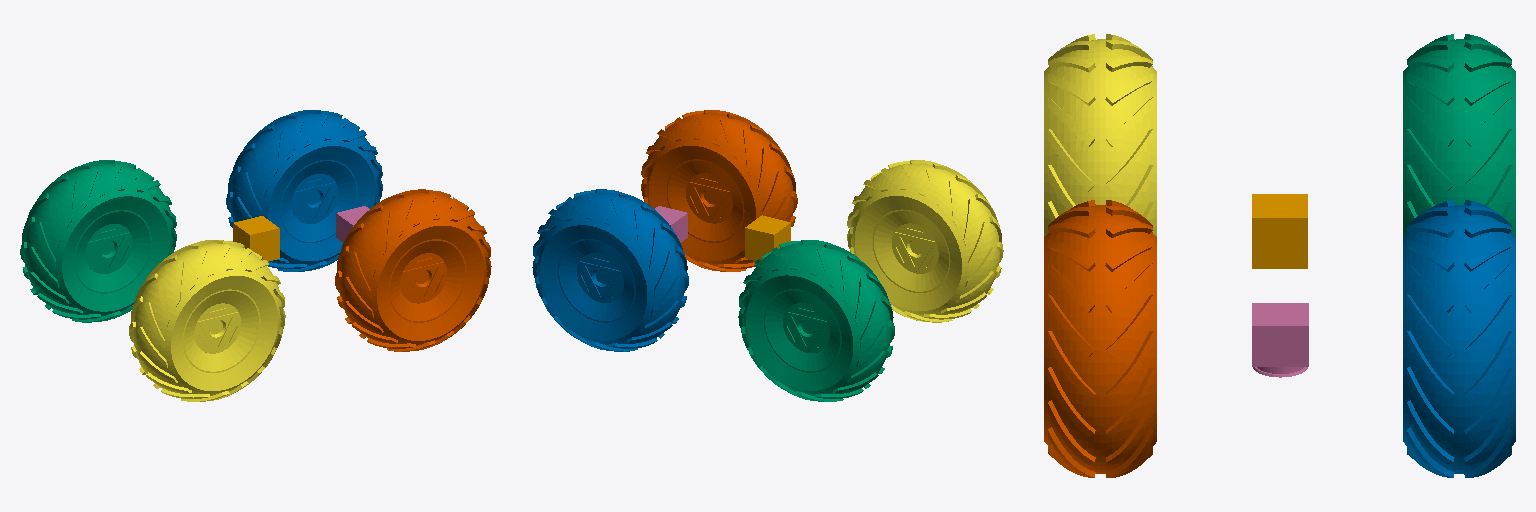
robot.urdf — iBot:
<?xml version="1.0" ?>
<!-- =================================================================================== -->
<!-- |    This document was autogenerated by xacro from [local-path]/ros2/airbus_ws/src/Autonomous-Inspection-POC/gazebo/models/iBot/iBot.urdf.xacro | -->
<!-- |    EDITING THIS FILE BY HAND IS NOT RECOMMENDED                                 | -->
<!-- =================================================================================== -->
<robot name="iBot">
  <!--**************** DIFFERENTIAL DRIVE CONTROLLER *********************** -->
  <gazebo>
    <plugin filename="libgazebo_ros_diff_drive.so" name="differential_drive_controller">
      <ros>
        <namespace>iBot</namespace>
        <remapping>/cmd_vel:=cmd_vel</remapping>
        <remapping>/odom:=odom</remapping>
      </ros>
      <update_rate>100.0</update_rate>
      <num_wheel_pairs>2</num_wheel_pairs>
      <odometry_frame>odom</odometry_frame>
      <left_joint>front_left_wheel_joint</left_joint>
      <left_joint>back_left_wheel_joint</left_joint>
      <wheel_separation>0.32</wheel_separation>
      <wheel_diameter>0.25</wheel_diameter>
      <right_joint>front_right_wheel_joint</right_joint>
      <right_joint>back_right_wheel_joint</right_joint>
      <wheel_separation>0.32</wheel_separation>
      <wheel_diameter>0.25</wheel_diameter>
      <max_wheel_torque>20</max_wheel_torque>
      <max_wheel_acceleration>1.0</max_wheel_acceleration>
      <publish_odom>true</publish_odom>
      <!-- robot_localization package publishes this transform -->
      <publish_odom_tf>false</publish_odom_tf>
      <!-- The robot_state_publisher package is often used to publish this transform -->
      <publish_wheel_tf>true</publish_wheel_tf>
      <odometry_frame>odom</odometry_frame>
      <robot_base_frame>robot_footprint</robot_base_frame>
      <!-- <odometry_source>world</odometry_source> -->
    </plugin>
  </gazebo>
  <!-- ************************ CAMERA SENSOR ****************************** -->
  <gazebo reference="camera">
    <sensor name="camera_sensor" type="camera">
      <update_rate>30</update_rate>
      <always_on>1</always_on>
      <camera name="camera">
        <!-- <horizontal_fov>1.3962634</horizontal_fov> -->
        <horizontal_fov>1.2</horizontal_fov>
        <image>
          <width>800</width>
          <height>800</height>
          <format>R8G8B8</format>
        </image>
        <clip>
          <near>0.02</near>
          <far>300</far>
        </clip>
        <distortion>
          <k1>0.0</k1>
          <k2>0.0</k2>
          <k3>0.0</k3>
          <p1>0.0</p1>
          <p2>0.0</p2>
          <center>0.5 0.5</center>
        </distortion>
      </camera>
      <plugin filename="libgazebo_ros_camera.so" name="camera_controller">
        <ros>
          <namespace>/iBot</namespace>
          <remapping>camera/image_raw:=/iBot/camera/image</remapping>
          <remapping>camera/camera_info:=/iBot/camera/image/camera_info</remapping>
        </ros>
        <camera_name>camera</camera_name>
        <frame_name>camera_frame</frame_name>
        <hack_baseline>0.07</hack_baseline>
      </plugin>
    </sensor>
  </gazebo>
  <!-- ************************* IMU SENSOR ******************************** -->
  <gazebo reference="imu">
    <sensor name="imu_sensor" type="imu">
      <plugin filename="libgazebo_ros_imu_sensor.so" name="imu">
        <ros>
          <namespace>/iBot</namespace>
          <remapping>~/out:=imu</remapping>
        </ros>
        <initial_orientation_as_reference>false</initial_orientation_as_reference>
      </plugin>
      <always_on>true</always_on>
      <update_rate>100</update_rate>
      <visualize>true</visualize>
      <imu>
        <angular_velocity>
          <x>
            <noise type="gaussian">
              <mean>0.0</mean>
              <stddev>2e-4</stddev>
              <bias_mean>0.0000075</bias_mean>
              <bias_stddev>0.0000008</bias_stddev>
            </noise>
          </x>
          <y>
            <noise type="gaussian">
              <mean>0.0</mean>
              <stddev>2e-4</stddev>
              <bias_mean>0.0000075</bias_mean>
              <bias_stddev>0.0000008</bias_stddev>
            </noise>
          </y>
          <z>
            <noise type="gaussian">
              <mean>0.0</mean>
              <stddev>2e-4</stddev>
              <bias_mean>0.0000075</bias_mean>
              <bias_stddev>0.0000008</bias_stddev>
            </noise>
          </z>
        </angular_velocity>
        <linear_acceleration>
          <x>
            <noise type="gaussian">
              <mean>0.0</mean>
              <stddev>1.7e-2</stddev>
              <bias_mean>0.1</bias_mean>
              <bias_stddev>0.001</bias_stddev>
            </noise>
          </x>
          <y>
            <noise type="gaussian">
              <mean>0.0</mean>
              <stddev>1.7e-2</stddev>
              <bias_mean>0.1</bias_mean>
              <bias_stddev>0.001</bias_stddev>
            </noise>
          </y>
          <z>
            <noise type="gaussian">
              <mean>0.0</mean>
              <stddev>1.7e-2</stddev>
              <bias_mean>0.1</bias_mean>
              <bias_stddev>0.001</bias_stddev>
            </noise>
          </z>
        </linear_acceleration>
      </imu>
    </sensor>
  </gazebo>
  <!-- ********************** JOINT STATE PUBLISHER ************************ -->
  <gazebo>
    <plugin filename="libgazebo_ros_joint_state_publisher.so" name="joint_state_publisher">
      <ros>
        <namespace>iBot</namespace>
        <remapping>~/out:=joint_states</remapping>
      </ros>
      <update_rate>30</update_rate>
      <joint_name>front_left_wheel_joint</joint_name>
      <joint_name>front_right_wheel_joint</joint_name>
      <joint_name>back_left_wheel_joint</joint_name>
      <joint_name>back_right_wheel_joint</joint_name>
    </plugin>
  </gazebo>
  <!-- ********** GAZEBO-ROS-FORCE PLUGIN FOR SIMULATING EDF THRUST ********** -->
  <gazebo>
    <plugin filename="libgazebo_ros_force.so" name="gazebo_ros_force">
      <ros>
        <namespace>iBot</namespace>
        <remapping>/gazebo_ros_force:=wrench</remapping>
      </ros>
      <update_rate>100</update_rate>
      <always_on>true</always_on>
      <link_name>robot_footprint</link_name>
      <force_frame>link</force_frame>
    </plugin>
  </gazebo>
  <gazebo>
    <plugin filename="libgazebo_ros_p3d.so" name="p3d_base_controller">
      <ros>
        <namespace>/iBot</namespace>
        <argument>odom:=ground_truth</argument>
      </ros>
      <always_on>true</always_on>
      <update_rate>50.0</update_rate>
      <body_name>robot_footprint</body_name>
      <gaussian_noise>0.01</gaussian_noise>
      <frame_name>world</frame_name>
      <xyz_offset>0 0 0</xyz_offset>
      <rpy_offset>0 0 0</rpy_offset>
    </plugin>
  </gazebo>
  <!-- ******************** BASE LINK ************************************** -->
  <link name="chassis">
    <collision name="collision">
      <origin rpy=" 0 0 0" xyz="0 0 0"/>
      <geometry>
        <box size="0.4 0.2 0.1"/>
      </geometry>
    </collision>
    <visual name="chassis_visual">
      <origin rpy=" 1.5707963267948966 0 0" xyz="0 -0 0"/>
      <geometry>
        <mesh filename="package://iBot/meshes/chassis3.obj"/>
      </geometry>
      <transparency>0</transparency>
      <cast_shadows>1</cast_shadows>
    </visual>
    <inertial>
      <origin rpy="1.5707963267948966 0 1.5707963267948966" xyz="0 0 0"/>
      <mass value="15"/>
      <inertia ixx="0.21250000000000005" ixy="0.0" ixz="0.0" iyy="0.25000000000000006" iyz="0.0" izz="0.06250000000000001"/>
    </inertial>
  </link>
  <!-- dummy link to take care of the below error -
  "The root link chassis has an inertia specified in the URDF, but KDL does not
  support a root link with an inertia.  As a workaround, you can add an extra
  dummy link to your URDF."
  <link name="dummy_link"-->
  <!-- ****************** ROBOT BASE FOOTPRINT ***************************  -->
  <!-- Define the center of the main robot chassis projected on the ground -->
  <link name="robot_footprint"/>
  <!-- The base footprint of the robot is located underneath the chassis -->
  <joint name="robot_footprint_joint" type="fixed">
    <!-- NOTE- joint's orign is defined w.r.t. parent's reference frame-->
    <origin rpy="0 0 0" xyz="0 0 0.15"/>
    <child link="chassis"/>
    <parent link="robot_footprint"/>
  </joint>
  <link name="back_left_wheel_link">
    <visual>
      <origin rpy="1.5707963267948966 0 0" xyz="0 0 0"/>
      <geometry>
        <mesh filename="package://iBot/meshes/wheel3.obj"/>
      </geometry>
      <transparency>0</transparency>
      <cast_shadows>1</cast_shadows>
    </visual>
    <collision>
      <origin rpy="1.5707963267948966 0 0" xyz="0 0 0"/>
      <geometry>
        <cylinder length="0.1" radius="0.125"/>
      </geometry>
      <surface>
        <friction>
          <ode>
            <mu>500</mu>
            <mu2>500</mu2>
          </ode>
        </friction>
      </surface>
    </collision>
    <inertial>
      <origin rpy="1.5707963267948966 0 0" xyz="0 0 0"/>
      <mass value="5"/>
      <inertia ixx="0.02369791666666667" ixy="0" ixz="0" iyy="0.02369791666666667" iyz="0" izz="0.0390625"/>
    </inertial>
  </link>
  <joint name="back_left_wheel_joint" type="revolute">
    <parent link="chassis"/>
    <child link="back_left_wheel_link"/>
    <origin rpy="0 0 0" xyz="-0.175 0.16000000000000003 -0.025"/>
    <limit effort="1000" lower="-1e+16" upper="1e+16" velocity="1000"/>
    <axis xyz="0 1 0"/>
    <dynamics damping="1.0" friction="1.0" spring_reference="0" spring_stiffness="0"/>
  </joint>
  <link name="back_right_wheel_link">
    <visual>
      <origin rpy="1.5707963267948966 0 0" xyz="0 0 0"/>
      <geometry>
        <mesh filename="package://iBot/meshes/wheel3.obj"/>
      </geometry>
      <transparency>0</transparency>
      <cast_shadows>1</cast_shadows>
    </visual>
    <collision>
      <origin rpy="1.5707963267948966 0 0" xyz="0 0 0"/>
      <geometry>
        <cylinder length="0.1" radius="0.125"/>
      </geometry>
      <surface>
        <friction>
          <ode>
            <mu>500</mu>
            <mu2>500</mu2>
          </ode>
        </friction>
      </surface>
    </collision>
    <inertial>
      <origin rpy="1.5707963267948966 0 0" xyz="0 0 0"/>
      <mass value="5"/>
      <inertia ixx="0.02369791666666667" ixy="0" ixz="0" iyy="0.02369791666666667" iyz="0" izz="0.0390625"/>
    </inertial>
  </link>
  <joint name="back_right_wheel_joint" type="revolute">
    <parent link="chassis"/>
    <child link="back_right_wheel_link"/>
    <origin rpy="0 0 0" xyz="-0.175 -0.16000000000000003 -0.025"/>
    <limit effort="1000" lower="-1e+16" upper="1e+16" velocity="1000"/>
    <axis xyz="0 1 0"/>
    <dynamics damping="1.0" friction="1.0" spring_reference="0" spring_stiffness="0"/>
  </joint>
  <link name="front_left_wheel_link">
    <visual>
      <origin rpy="1.5707963267948966 0 0" xyz="0 0 0"/>
      <geometry>
        <mesh filename="package://iBot/meshes/wheel3.obj"/>
      </geometry>
      <transparency>0</transparency>
      <cast_shadows>1</cast_shadows>
    </visual>
    <collision>
      <origin rpy="1.5707963267948966 0 0" xyz="0 0 0"/>
      <geometry>
        <cylinder length="0.1" radius="0.125"/>
      </geometry>
      <surface>
        <friction>
          <ode>
            <mu>500</mu>
            <mu2>500</mu2>
          </ode>
        </friction>
      </surface>
    </collision>
    <inertial>
      <origin rpy="1.5707963267948966 0 0" xyz="0 0 0"/>
      <mass value="5"/>
      <inertia ixx="0.02369791666666667" ixy="0" ixz="0" iyy="0.02369791666666667" iyz="0" izz="0.0390625"/>
    </inertial>
  </link>
  <joint name="front_left_wheel_joint" type="revolute">
    <parent link="chassis"/>
    <child link="front_left_wheel_link"/>
    <origin rpy="0 0 0" xyz="0.175 0.16000000000000003 -0.025"/>
    <limit effort="1000" lower="-1e+16" upper="1e+16" velocity="1000"/>
    <axis xyz="0 1 0"/>
    <dynamics damping="1.0" friction="1.0" spring_reference="0" spring_stiffness="0"/>
  </joint>
  <link name="front_right_wheel_link">
    <visual>
      <origin rpy="1.5707963267948966 0 0" xyz="0 0 0"/>
      <geometry>
        <mesh filename="package://iBot/meshes/wheel3.obj"/>
      </geometry>
      <transparency>0</transparency>
      <cast_shadows>1</cast_shadows>
    </visual>
    <collision>
      <origin rpy="1.5707963267948966 0 0" xyz="0 0 0"/>
      <geometry>
        <cylinder length="0.1" radius="0.125"/>
      </geometry>
      <surface>
        <friction>
          <ode>
            <mu>500</mu>
            <mu2>500</mu2>
          </ode>
        </friction>
      </surface>
    </collision>
    <inertial>
      <origin rpy="1.5707963267948966 0 0" xyz="0 0 0"/>
      <mass value="5"/>
      <inertia ixx="0.02369791666666667" ixy="0" ixz="0" iyy="0.02369791666666667" iyz="0" izz="0.0390625"/>
    </inertial>
  </link>
  <joint name="front_right_wheel_joint" type="revolute">
    <parent link="chassis"/>
    <child link="front_right_wheel_link"/>
    <origin rpy="0 0 0" xyz="0.175 -0.16000000000000003 -0.025"/>
    <limit effort="1000" lower="-1e+16" upper="1e+16" velocity="1000"/>
    <axis xyz="0 1 0"/>
    <dynamics damping="1.0" friction="1.0" spring_reference="0" spring_stiffness="0"/>
  </joint>
  <!-- ************************** CAMERA *************************** -->
  <link name="camera">
    <inertial>
      <origin rpy="1.5707963267948966 0 1.5707963267948966" xyz="0 0 0"/>
      <mass value="0.1"/>
      <inertia ixx="4.166666666666667e-05" ixy="0.0" ixz="0.0" iyy="4.166666666666667e-05" iyz="0.0" izz="4.166666666666667e-05"/>
    </inertial>
    <visual name="camera_visual">
      <origin rpy="0 0 1.5707963267948966" xyz="0 0 0"/>
      <geometry>
        <mesh filename="package://iBot/meshes/camera.obj"/>
      </geometry>
      <transparency>0</transparency>
      <cast_shadows>1</cast_shadows>
    </visual>
    <collision name="camera_colision">
      <origin rpy="0 0 0" xyz="0 0 0"/>
      <geometry>
        <box size="0.05 0.05 0.05"/>
      </geometry>
    </collision>
  </link>
  <joint name="camera_joint" type="fixed">
    <origin rpy="0 1.5707 0" xyz="0.17500000000000002 0 -0.025"/>
    <parent link="chassis"/>
    <child link="camera"/>
  </joint>
  <link name="camera_frame"/>
  <joint name="camera_frame_joint" type="fixed">
    <origin rpy="-1.5707963267948966 0 -1.5707963267948966" xyz="0.025 0 0"/>
    <parent link="camera"/>
    <child link="camera_frame"/>
  </joint>
  <!-- ************************** IMU *************************** -->
  <link name="imu">
    <inertial>
      <origin rpy="1.5707963267948966 0 1.5707963267948966" xyz="0 0 0"/>
      <mass value="0.1"/>
      <inertia ixx="4.166666666666667e-05" ixy="0.0" ixz="0.0" iyy="4.166666666666667e-05" iyz="0.0" izz="4.166666666666667e-05"/>
    </inertial>
    <visual name="imu_visual">
      <origin rpy="0 0 0" xyz="0 0 0"/>
      <geometry>
        <box size="0.05 0.05 0.05"/>
      </geometry>
    </visual>
    <collision name="imu_colision">
      <origin rpy="0 0 0" xyz="0 0 0"/>
      <geometry>
        <box size="0.05 0.05 0.05"/>
      </geometry>
    </collision>
  </link>
  <joint name="imu_joint" type="fixed">
    <origin rpy="0 0 0" xyz="0 0 0"/>
    <parent link="chassis"/>
    <child link="imu"/>
  </joint>
  <gazebo reference="imu">
    <material>Gazebo/Red</material>
  </gazebo>
</robot>

--- Facts derived from the render (not from the file) ---
Views: 3 orthographic renders of the robot side by side, from view 1: azimuth 30°, elevation 25°; view 2: azimuth 150°, elevation 25°; view 3: azimuth 270°, elevation 25°.
Robot: iBot — 9 links, 8 joints (4 revolute, 4 fixed); root link robot_footprint; default pose: all joints at 0.
Links seen in each view (by area): view 1: front_right_wheel_link, back_right_wheel_link, back_left_wheel_link, front_left_wheel_link, imu, camera; view 2: back_left_wheel_link, front_left_wheel_link, back_right_wheel_link, front_right_wheel_link, imu, camera; view 3: front_left_wheel_link, front_right_wheel_link, back_left_wheel_link, back_right_wheel_link, imu, camera.
Link boxes in pixels (x1=…): front_right_wheel_link: x1=335, y1=189, x2=491, y2=351; back_right_wheel_link: x1=129, y1=240, x2=285, y2=401; back_left_wheel_link: x1=20, y1=160, x2=176, y2=322; front_left_wheel_link: x1=226, y1=110, x2=382, y2=271; imu: x1=233, y1=216, x2=279, y2=261; camera: x1=336, y1=206, x2=369, y2=245; back_left_wheel_link: x1=738, y1=240, x2=894, y2=401; front_left_wheel_link: x1=532, y1=189, x2=688, y2=351; back_right_wheel_link: x1=847, y1=160, x2=1003, y2=322; front_right_wheel_link: x1=641, y1=110, x2=797, y2=271; imu: x1=745, y1=215, x2=790, y2=260; camera: x1=655, y1=206, x2=687, y2=242; front_left_wheel_link: x1=1403, y1=200, x2=1515, y2=477; front_right_wheel_link: x1=1044, y1=200, x2=1156, y2=477; back_left_wheel_link: x1=1403, y1=34, x2=1515, y2=236; back_right_wheel_link: x1=1044, y1=34, x2=1156, y2=236; imu: x1=1252, y1=194, x2=1307, y2=268; camera: x1=1252, y1=303, x2=1308, y2=377.
Size in the robot's own frame: 0.5986 by 0.42 by 0.2489 metres.
Meshes: 3 distinct files referenced, 5 mesh visuals loaded (2 OBJ); not drawn: 1 (reference not matched to a file when rendering).